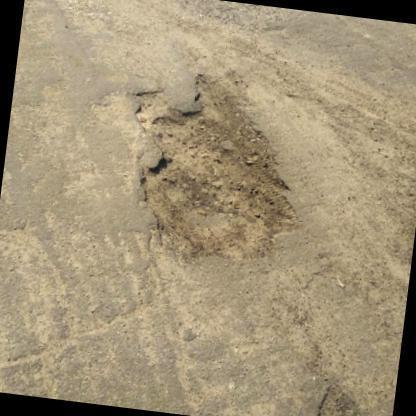pothole: (125, 72, 293, 263)
